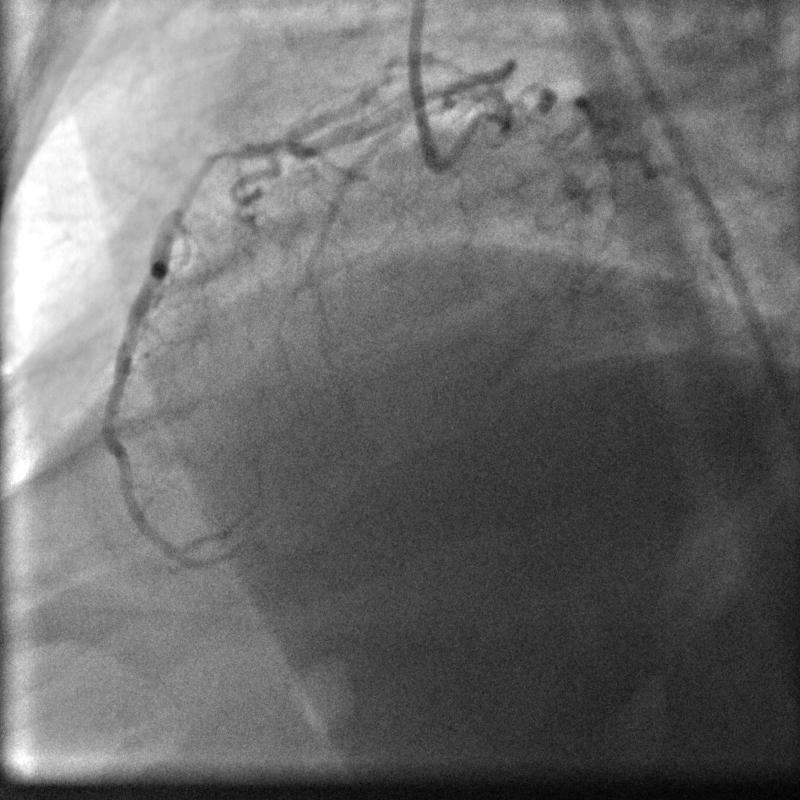Stenosis: (172, 148, 230, 206)
